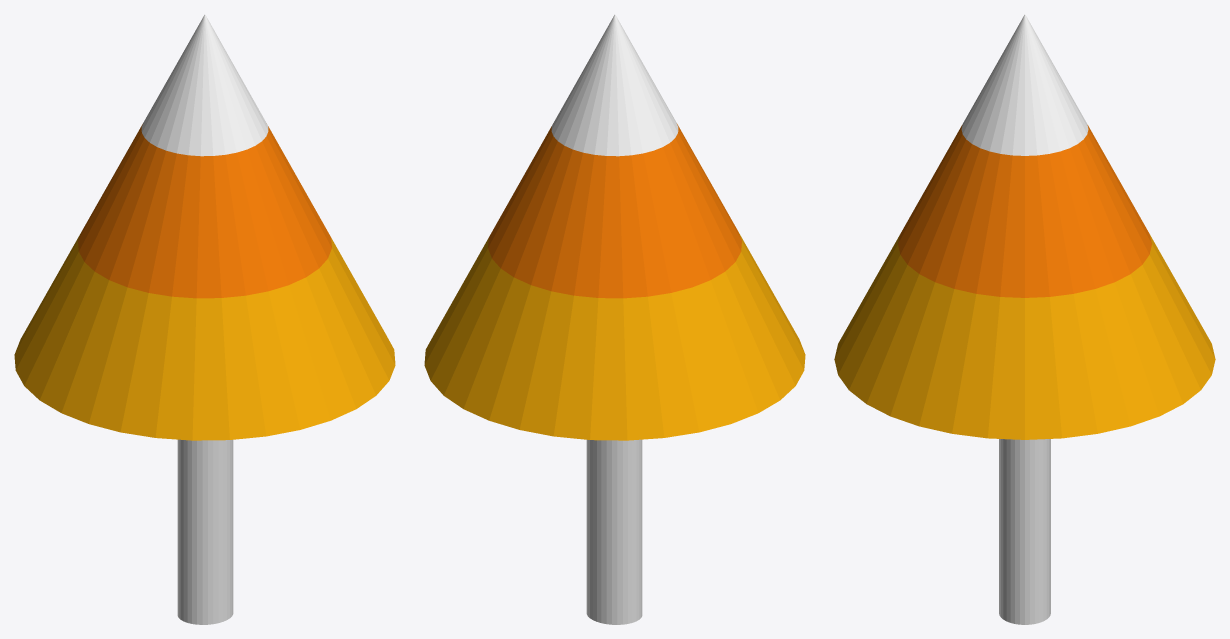
The model's file is propheladeraarboldedulce.fbx.
3 views of the same model, side by side, from view 1: azimuth 30°, elevation 25°; view 2: azimuth 150°, elevation 25°; view 3: azimuth 270°, elevation 25° (orthographic).
Parts seen in each view (by area): view 1: Cylinder.001, Cylinder; view 2: Cylinder.001, Cylinder; view 3: Cylinder.001, Cylinder.
Boxes of the visible parts, x1,y1,x2,y2 form: Cylinder.001: (14, 14, 395, 440); Cylinder: (177, 439, 233, 624); Cylinder.001: (424, 14, 805, 440); Cylinder: (586, 439, 642, 624); Cylinder.001: (834, 14, 1215, 439); Cylinder: (999, 439, 1050, 624).
Bounding box in the file's own units: 281 × 486 × 281.
Materials: 2 (2 with a texture image).
